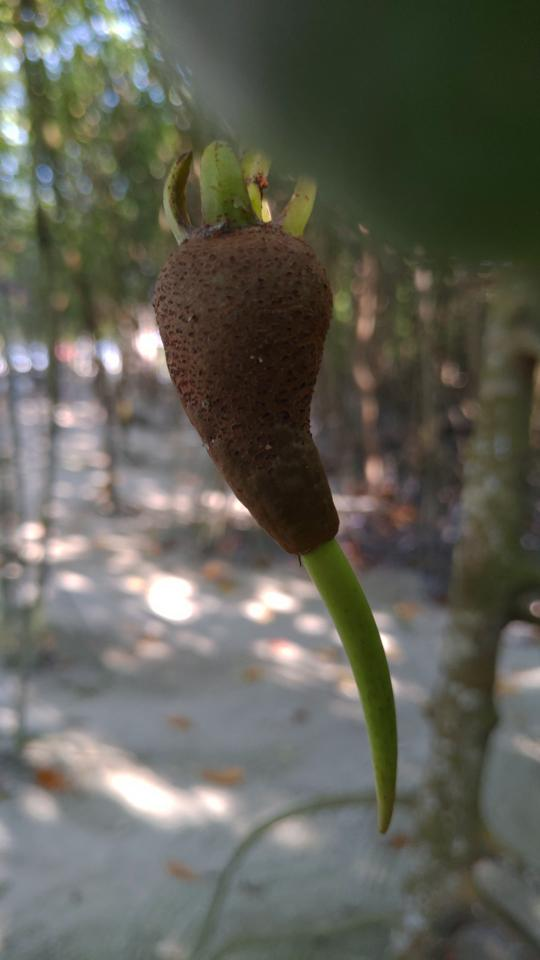mentah: (122, 134, 417, 852)
